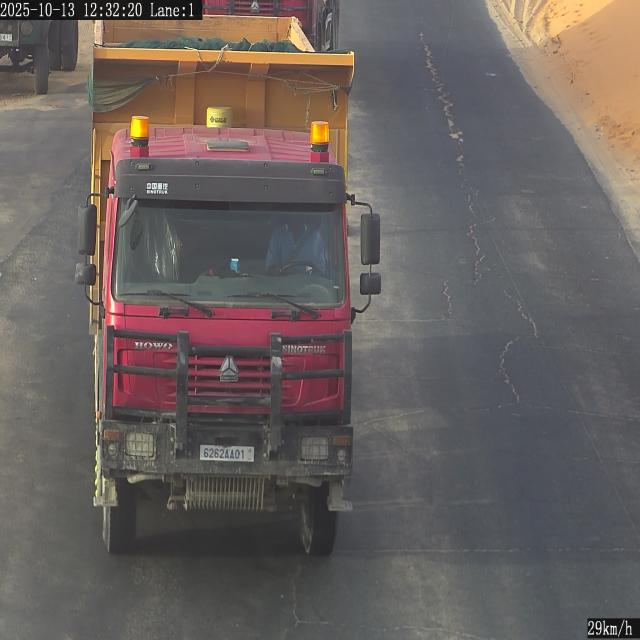BUS: (200, 445, 254, 462), (0, 33, 13, 42)
